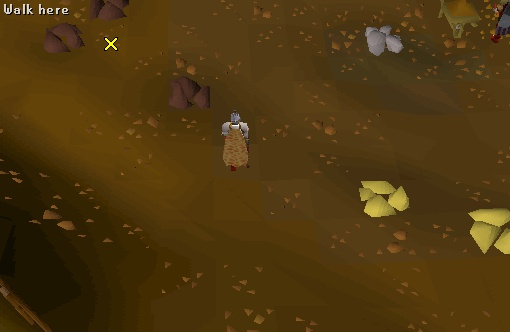gold: (352, 172, 419, 226)
iron: (161, 69, 221, 120), (33, 14, 93, 65)
